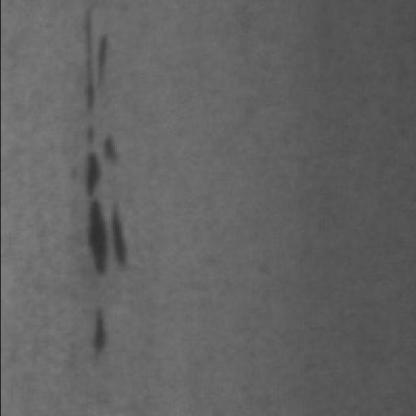inclusion: (77, 6, 143, 283), (86, 310, 121, 370)
